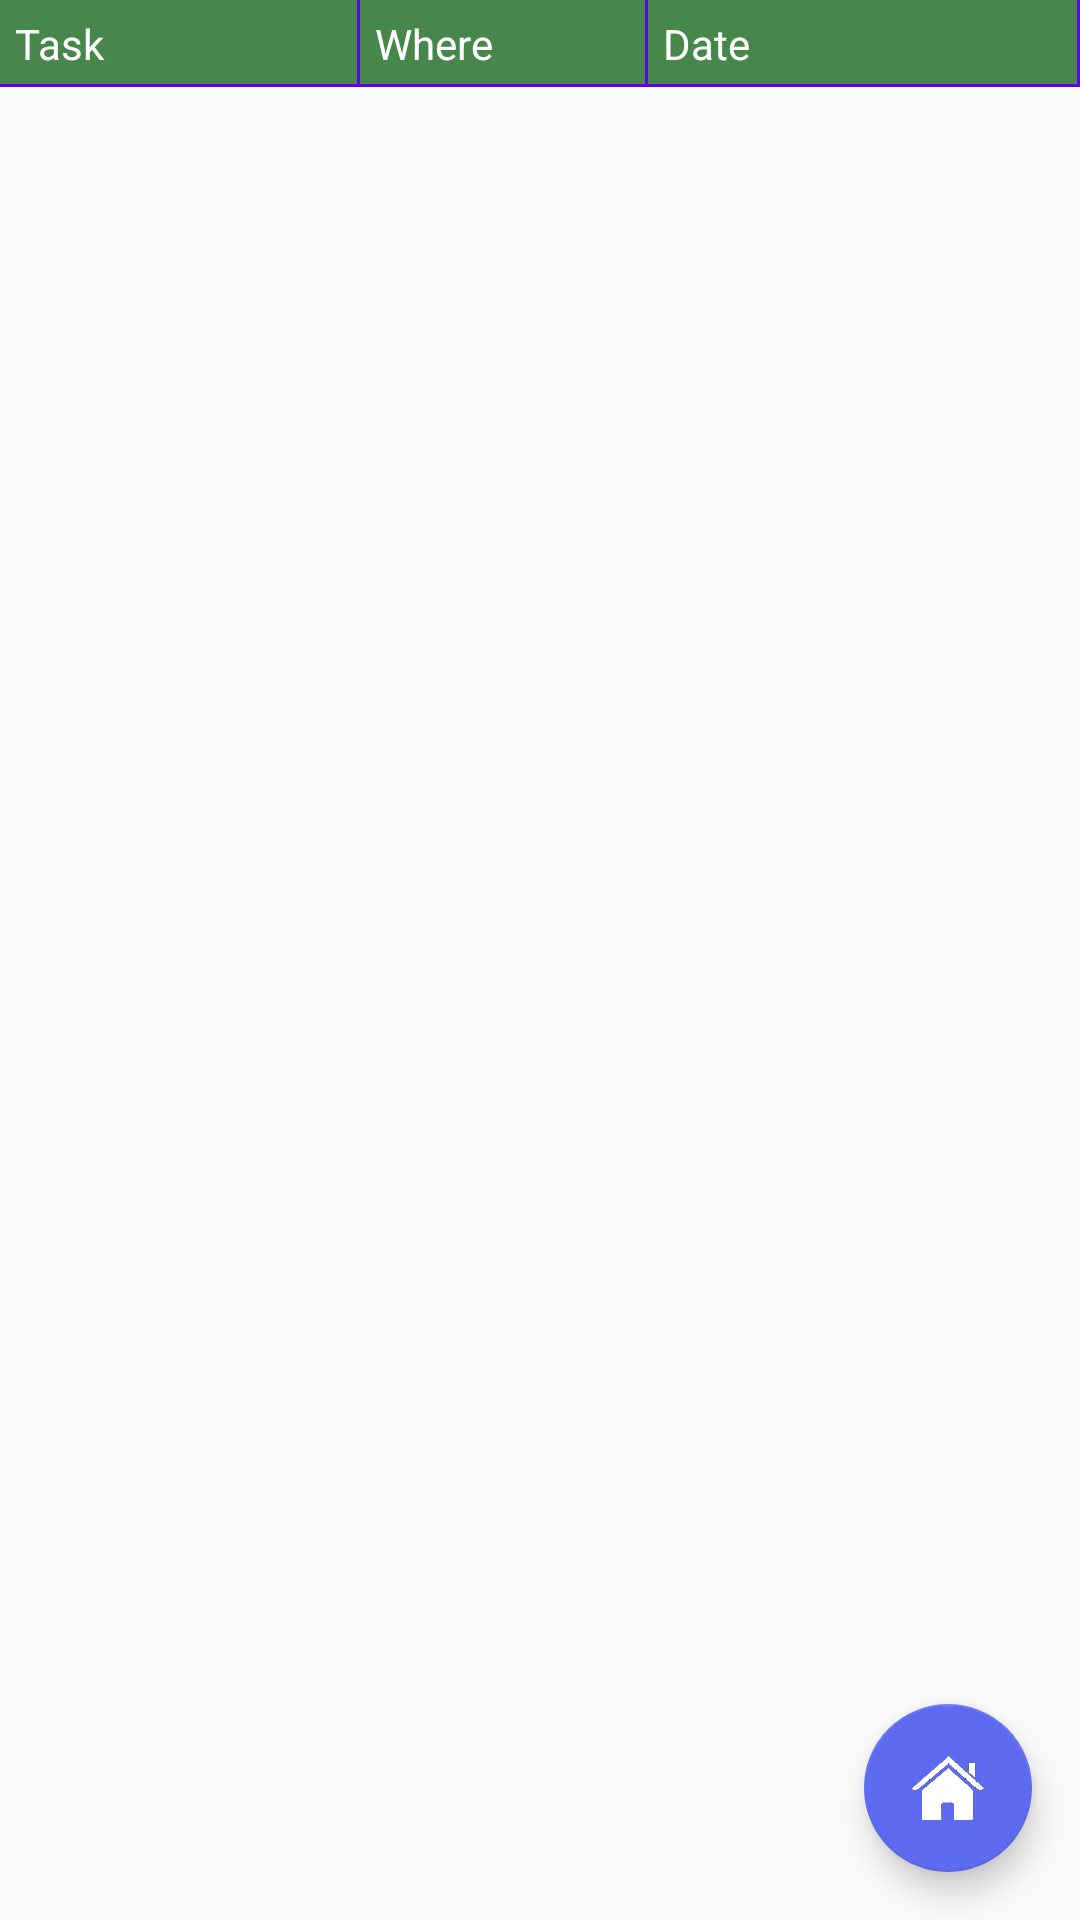

Screen size 1080 x 1920. Icon name, then its box in pixels as BBox(x1, y1, x2, y2):
home todo: BBox(864, 1704, 1032, 1872)
